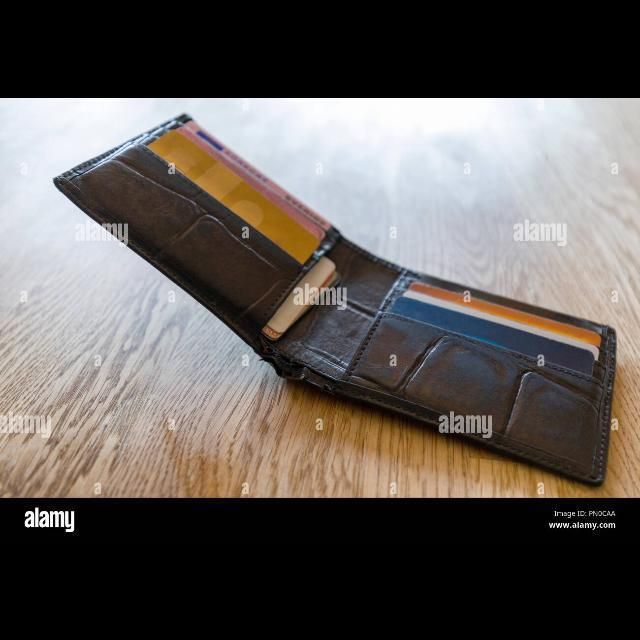wallet: (50, 101, 640, 475)
